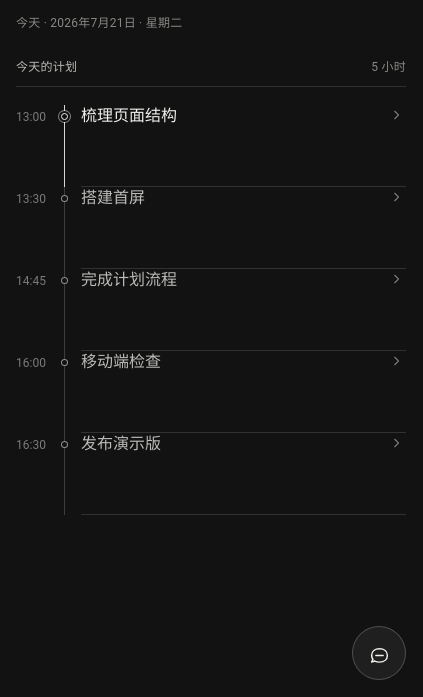
production Hermes MVP interface › renders the approved Today timeline and expands one task inline
Expected: the text "今天 · 2026年7月21日 · 星期二" is shown, [16, 16, 182, 30]
Expected: the button named "打开对话" is shown, [352, 626, 406, 680]
Step 1. Click the button "梳理页面结构" → x=129, y=116, box [81, 105, 406, 142]
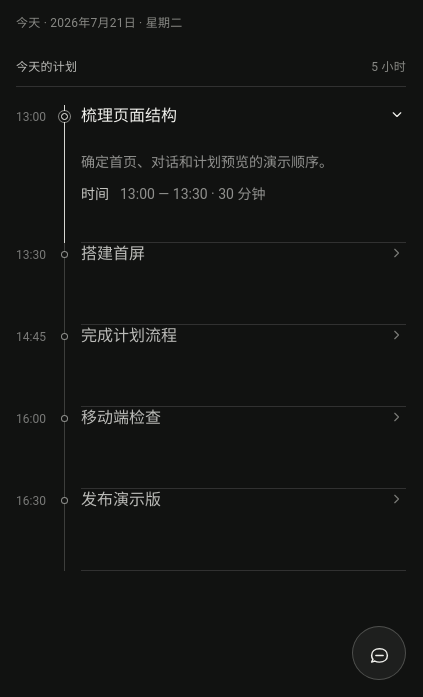
Result: the text "确定首页、对话和计划预览的演示顺序。" is shown at [81, 154, 333, 170]
